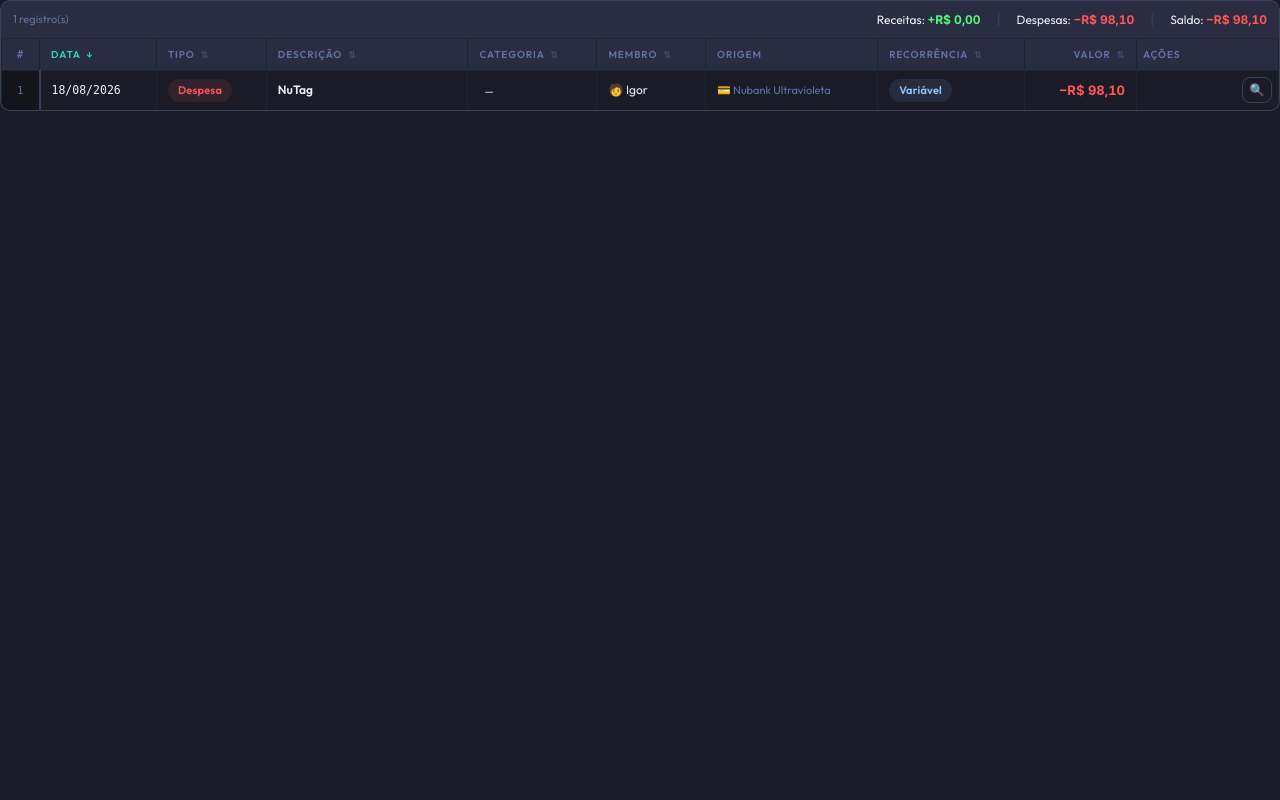
Test: TxTable without a statement column › shows the statement month and due date in the details modal
The width and height of the screenshot is (1280, 800).
Click the button titled "Detalhes" at (1257, 90), box [1242,77,1272,103]
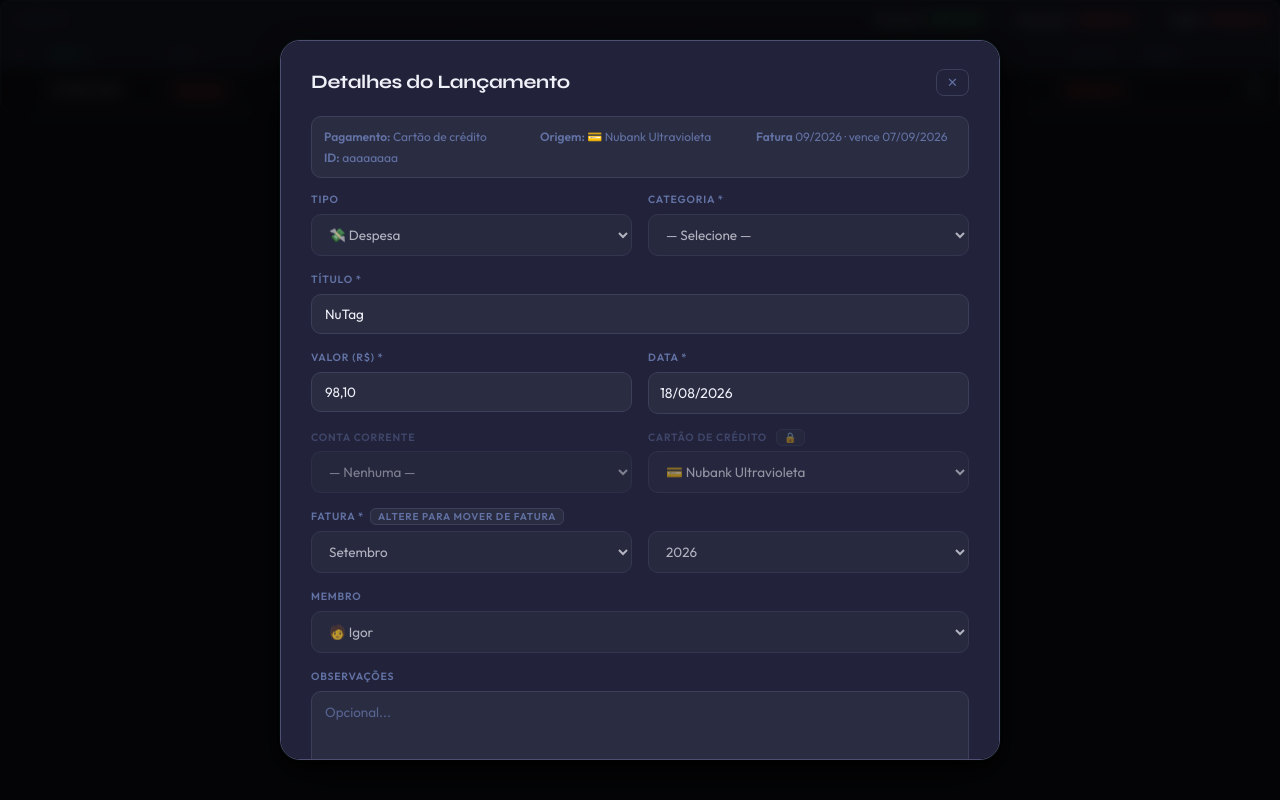
expect the text "Fatura 09/2026 · vence 07/09/2026" is shown: met, box [756,127,956,146]
